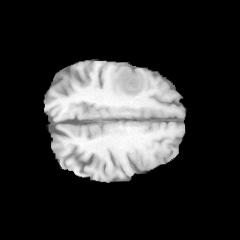glioma: (112, 65, 147, 97)
